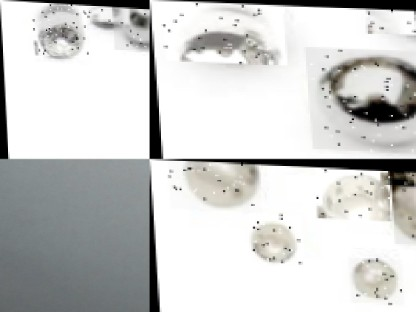ironball: (303, 45, 415, 151), (161, 0, 286, 64), (167, 159, 261, 212), (314, 165, 392, 219), (31, 1, 88, 57), (247, 211, 303, 264), (347, 255, 403, 303), (390, 175, 415, 242), (112, 5, 149, 50), (365, 7, 415, 33), (81, 4, 130, 22), (380, 168, 415, 183)
